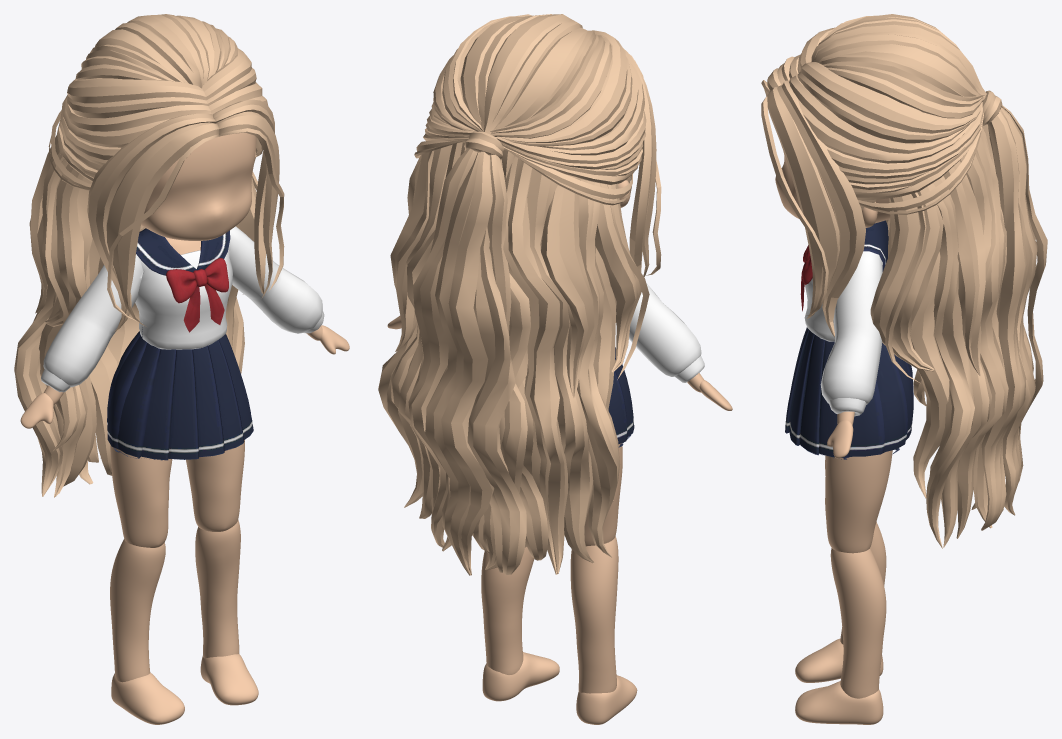
Rendered from man.glb.
The picture shows the model from 3 angles, left to right: view 1: azimuth 30°, elevation 25°; view 2: azimuth 150°, elevation 25°; view 3: azimuth 270°, elevation 25°; orthographic projection. The views are drawn at different scales.
Parts seen in each view (by area): view 1: hair, dress, calfs, thighs, head, feet, hands; view 2: hair, calfs, dress, feet, thighs, hands; view 3: hair, dress, calfs, thighs, feet, head, hands.
Part boxes in pixels (bbox=[...]): hair: bbox=[14, 14, 284, 497]; dress: bbox=[41, 226, 324, 460]; calfs: bbox=[110, 520, 240, 682]; thighs: bbox=[110, 440, 244, 547]; head: bbox=[141, 132, 256, 240]; feet: bbox=[111, 654, 258, 724]; hands: bbox=[20, 325, 349, 428]; hair: bbox=[378, 14, 661, 575]; calfs: bbox=[481, 536, 618, 693]; dress: bbox=[608, 283, 704, 447]; feet: bbox=[482, 652, 637, 724]; thighs: bbox=[584, 443, 622, 546]; hands: bbox=[387, 315, 732, 410]; hair: bbox=[761, 14, 1047, 548]; dress: bbox=[785, 220, 913, 459]; calfs: bbox=[830, 522, 886, 698]; thighs: bbox=[825, 450, 892, 553]; feet: bbox=[795, 638, 883, 724]; head: bbox=[775, 152, 890, 223]; hands: bbox=[827, 420, 853, 458].
Bounding box in the file's own units: 4.4 × 8.49 × 3.27.
4 materials, 1 textured.
